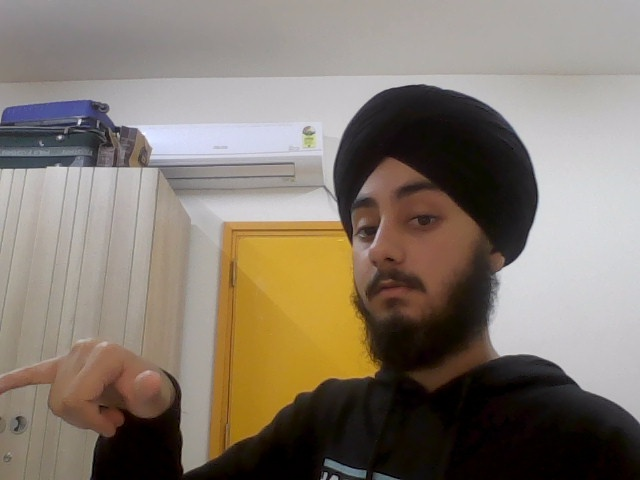Same: (1, 336, 179, 436)
